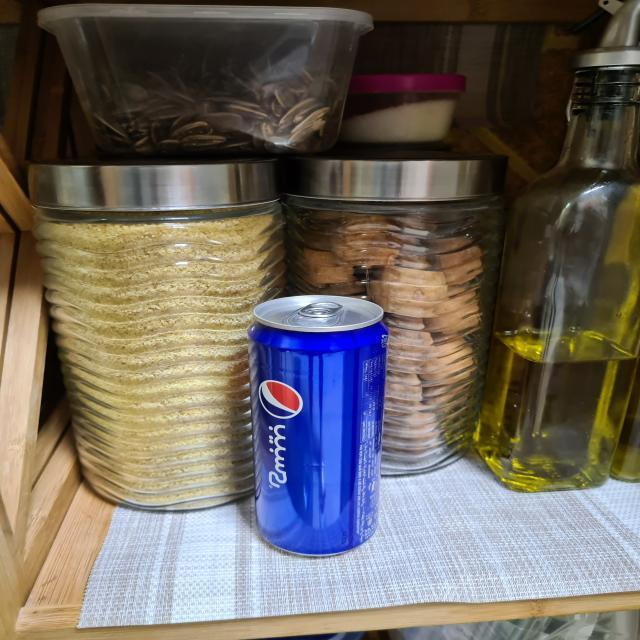can: (235, 284, 396, 561)
